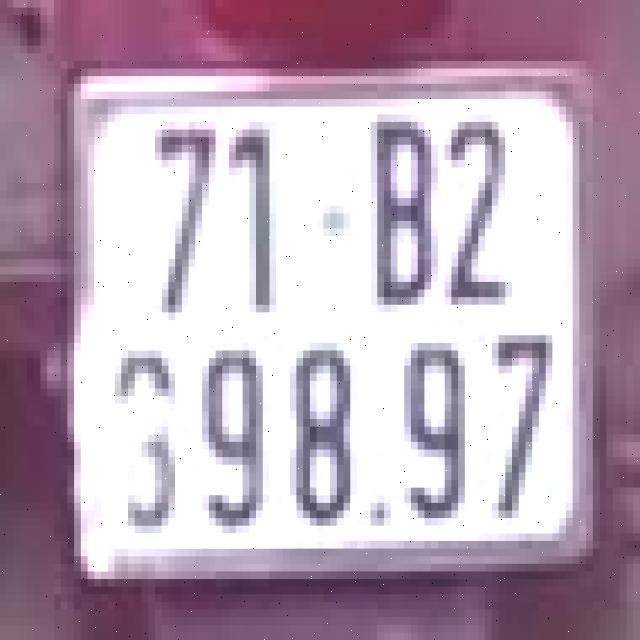1: (226, 122, 293, 320)
2: (448, 111, 515, 316)
7: (482, 316, 562, 522), (145, 114, 219, 320)
8: (98, 328, 192, 556), (280, 339, 354, 522)
9: (196, 331, 276, 545), (391, 320, 458, 495)
B: (370, 107, 438, 312)
